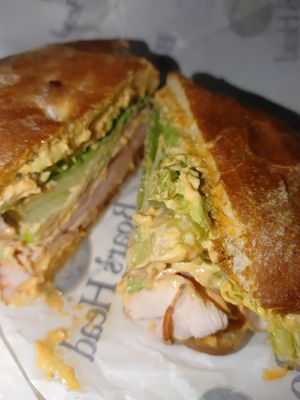soup: (0, 36, 300, 394), (112, 64, 300, 367), (0, 39, 169, 312)
